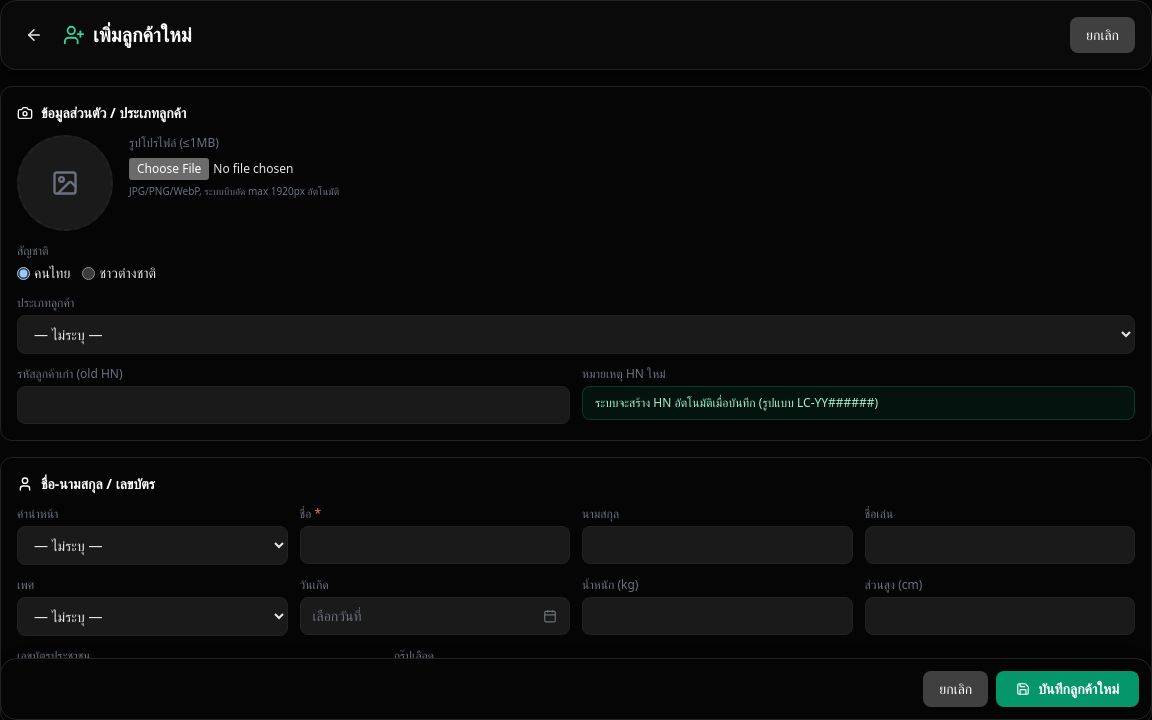
Scenario: V33.FF — full-flow simulate (mount → fill → submit) › FF3 — Thai/foreigner toggle hides citizen_id, shows passport+country
# Click foreigner radio
Step 1. Click the radio button with test id "customer-type-foreigner" → (89, 273), box [82,266,95,280]
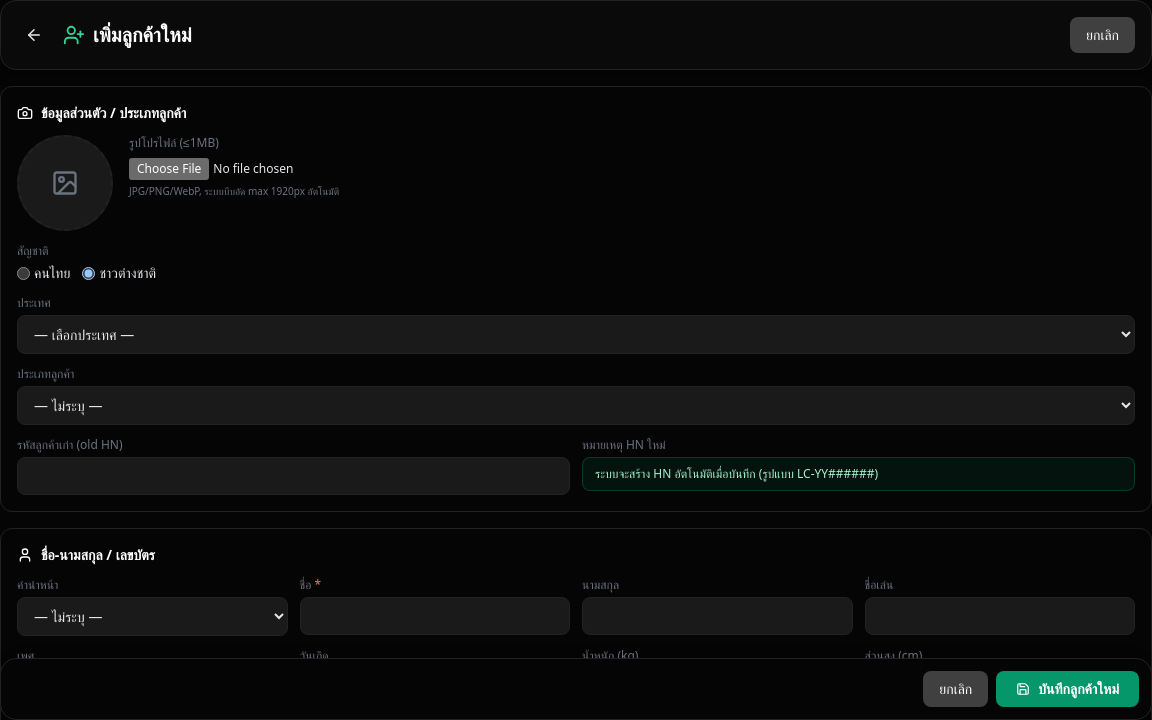
Result: the dropdown with test id "customer-form-country" is shown at [17,315,1135,354]
